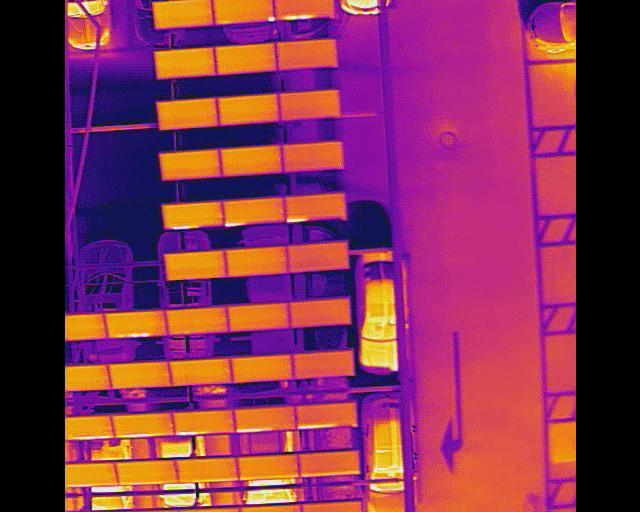Cell: (212, 0, 272, 24)
No-Anomaly: (218, 146, 281, 176), (285, 242, 347, 271), (222, 197, 284, 226), (226, 246, 285, 276), (281, 143, 342, 172), (162, 252, 225, 280), (284, 192, 344, 221), (278, 91, 338, 120), (215, 96, 278, 123), (159, 151, 219, 179), (214, 45, 275, 72), (154, 49, 215, 76), (152, 0, 212, 27), (275, 42, 336, 68), (158, 100, 216, 127), (288, 301, 348, 327), (236, 454, 298, 479), (226, 305, 288, 330), (293, 351, 352, 377), (298, 450, 359, 475), (232, 356, 293, 381), (175, 456, 236, 481), (161, 204, 222, 229), (164, 308, 227, 332), (116, 460, 176, 484), (168, 361, 230, 384), (105, 364, 169, 386), (241, 504, 302, 512), (179, 506, 240, 512)
Unclassified: (233, 406, 295, 431), (294, 404, 355, 428), (105, 313, 166, 337), (170, 411, 233, 434), (112, 414, 172, 437), (273, 0, 333, 18), (301, 501, 361, 512)
